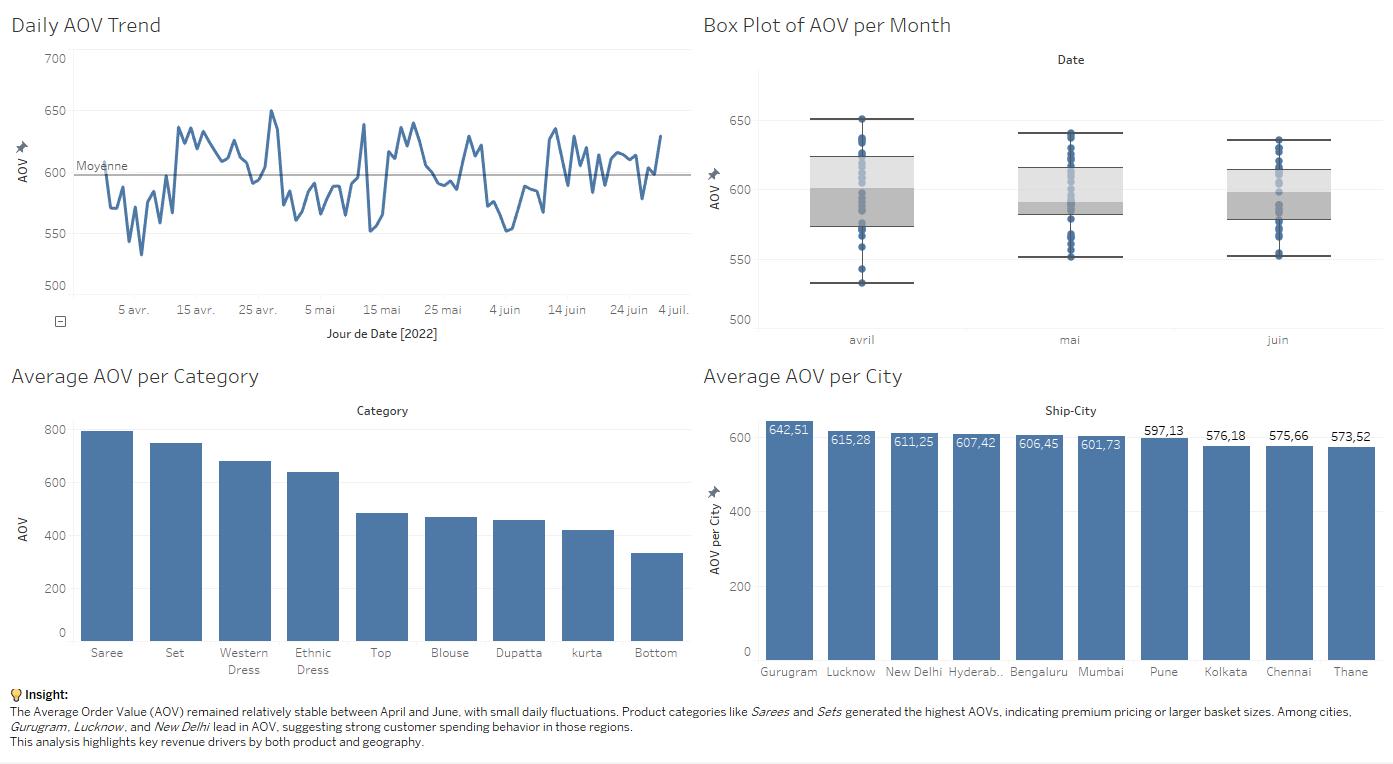

Layout of this report page (visuals, bound fields, positions):
{"tool":"tableau","page":{"name":"AOV trends","canvas":[1400,768],"ordinal":0},"visuals":[{"type":"worksheet","title":"Daily AOV Trend","mark":"Automatic","rows":["Calculation_1227512380773171202"],"cols":["Date"],"box":[8,8,692,351]},{"type":"worksheet","title":"Box Plot of AOV per Month","mark":"Circle","rows":["Calculation_1227512380773171202"],"cols":["Date"],"box":[700,8,692,351]},{"type":"worksheet","title":"Average AOV per Category","mark":"Automatic","rows":["Calculation_1227512380773171202"],"cols":["Category"],"box":[8,359,692,332]},{"type":"worksheet","title":"Average AOV per City","mark":"Bar","rows":["Calculation_85286926353276931"],"cols":["ship-city"],"box":[700,359,692,332]},{"type":"text","box":[8,691,1384,69]}]}

Visuals, with their boxes in screenshot pixels (x1, y1, x2, y2), scaled from the page's 1400x768 canvas onto the 1393x764 screenshot:
"Daily AOV Trend" worksheet: left=8, top=8, right=696, bottom=357
"Box Plot of AOV per Month" worksheet (Circle marks): left=696, top=8, right=1385, bottom=357
"Average AOV per Category" worksheet: left=8, top=357, right=696, bottom=687
"Average AOV per City" worksheet (Bar marks): left=696, top=357, right=1385, bottom=687
text: left=8, top=687, right=1385, bottom=756
